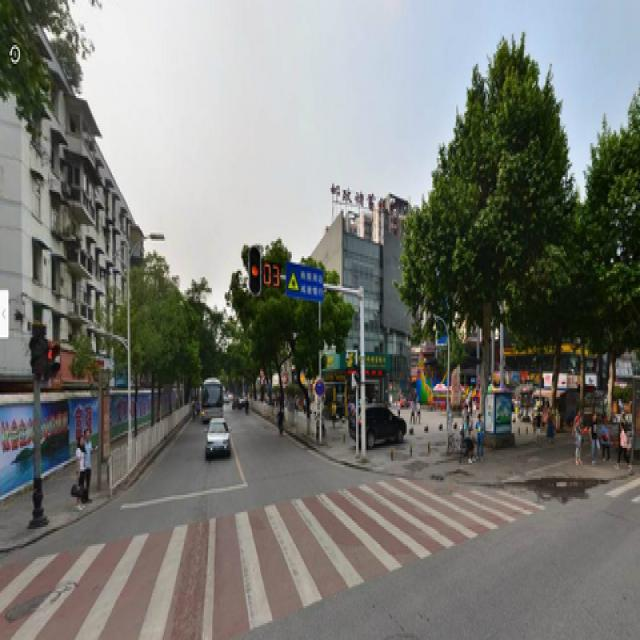meta: (398, 34, 574, 433)
